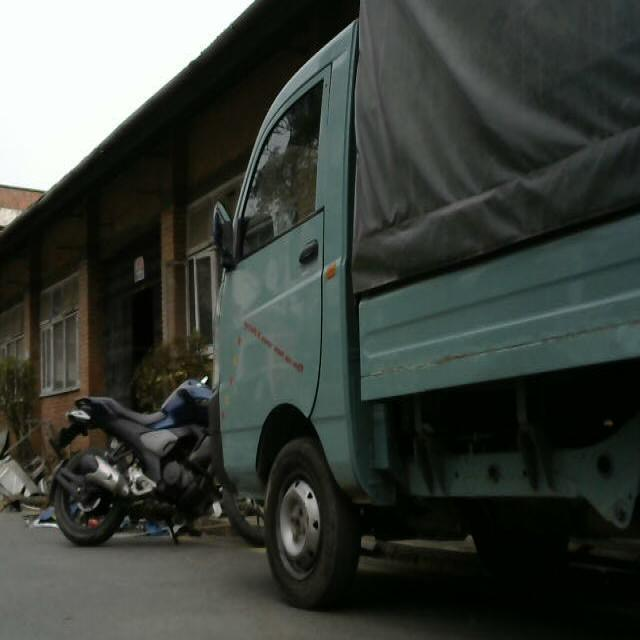Buildings: (4, 0, 258, 388)
Vehicle: (212, 0, 640, 595)
trees: (52, 390, 236, 548)
